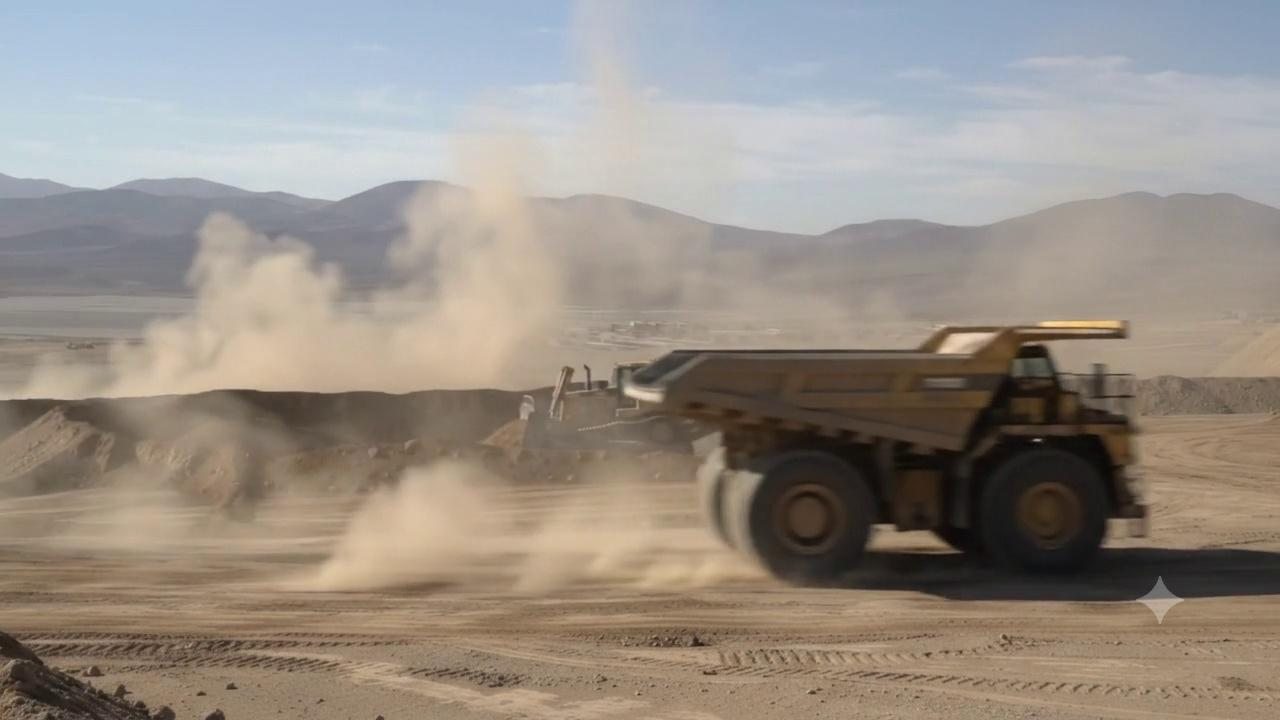CAEX: (534, 320, 1152, 585)
